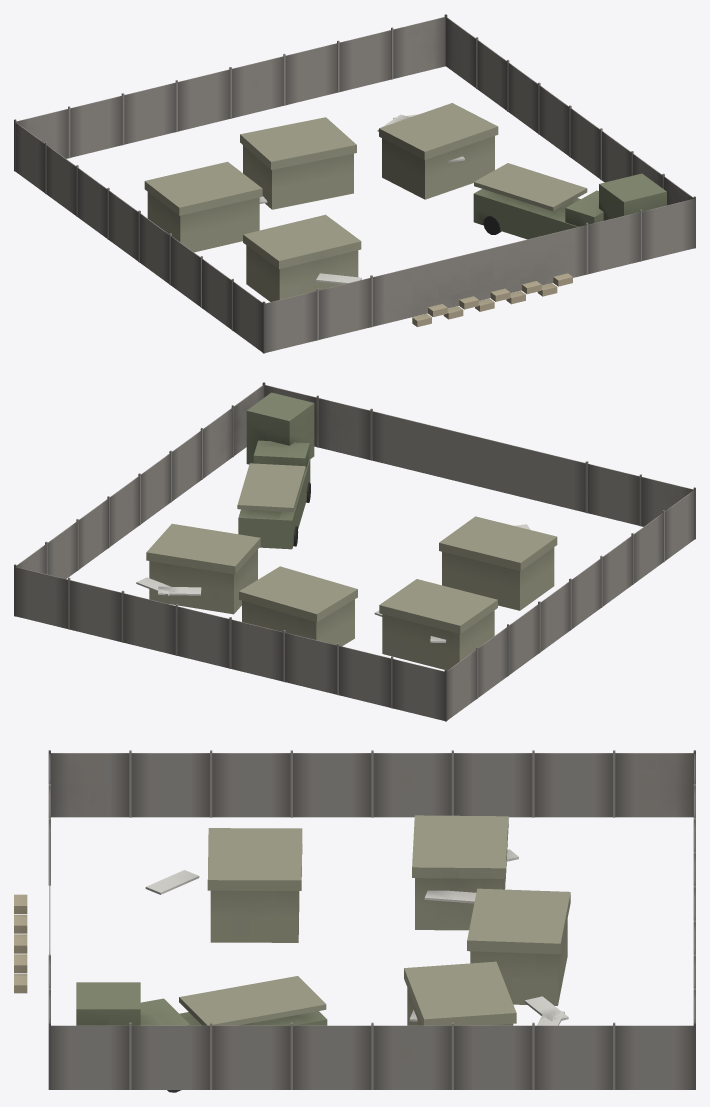
The model's file is quarentena.glb.
3 views of the same model, one above another, from view 1: azimuth 30°, elevation 25°; view 2: azimuth 150°, elevation 25°; view 3: azimuth 270°, elevation 25° (orthographic). The views are drawn at different scales.
Parts seen in each view (by area): view 1: quarentena_tela0, quarentena_tela2, quarentena_tela3, quarentena_tela1, quarentena_tenda2, quarentena_tenda1, quarentena_tenda0, quarentena_tenda3, quarentena_caminhao, quarentena_guarita; view 2: quarentena_tela2, quarentena_tela0, quarentena_tela3, quarentena_tela1, quarentena_tenda3, quarentena_tenda0, quarentena_tenda2, quarentena_tenda1, quarentena_caminhao, quarentena_guarita; view 3: quarentena_tela1, quarentena_tela3, quarentena_tenda3, quarentena_tenda1, quarentena_tenda0, quarentena_caminhao, quarentena_tenda2, quarentena_guarita, quarentena_maca1, quarentena_maca4, quarentena_maca3.
Boxes of the visible parts, bbox=[...] form: quarentena_tela0: bbox=[265, 199, 694, 352]; quarentena_tela2: bbox=[16, 17, 445, 158]; quarentena_tela3: bbox=[15, 122, 262, 352]; quarentena_tela1: bbox=[446, 17, 693, 205]; quarentena_tenda2: bbox=[379, 103, 498, 199]; quarentena_tenda1: bbox=[240, 117, 356, 209]; quarentena_tenda0: bbox=[144, 161, 262, 252]; quarentena_tenda3: bbox=[243, 214, 361, 301]; quarentena_caminhao: bbox=[473, 163, 603, 239]; quarentena_guarita: bbox=[599, 173, 666, 220]; quarentena_tela2: bbox=[15, 567, 444, 720]; quarentena_tela0: bbox=[264, 385, 693, 526]; quarentena_tela3: bbox=[447, 490, 694, 720]; quarentena_tela1: bbox=[16, 385, 263, 578]; quarentena_tenda3: bbox=[439, 516, 557, 610]; quarentena_tenda0: bbox=[379, 579, 497, 670]; quarentena_tenda2: bbox=[146, 523, 260, 614]; quarentena_tenda1: bbox=[239, 566, 357, 646]; quarentena_caminhao: bbox=[237, 440, 310, 549]; quarentena_guarita: bbox=[246, 392, 314, 464]; quarentena_tela1: bbox=[51, 1025, 693, 1089]; quarentena_tela3: bbox=[51, 753, 693, 817]; quarentena_tenda3: bbox=[207, 828, 302, 942]; quarentena_tenda1: bbox=[467, 888, 570, 1005]; quarentena_tenda0: bbox=[412, 815, 508, 930]; quarentena_caminhao: bbox=[140, 976, 327, 1092]; quarentena_tenda2: bbox=[404, 961, 516, 1025]; quarentena_guarita: bbox=[76, 982, 140, 1025]; quarentena_maca1: bbox=[145, 870, 199, 894]; quarentena_maca4: bbox=[424, 890, 476, 903]; quarentena_maca3: bbox=[524, 996, 568, 1020].
Size of what is drawn, in the model's own units: 22.08 by 3.6 by 23.26.
